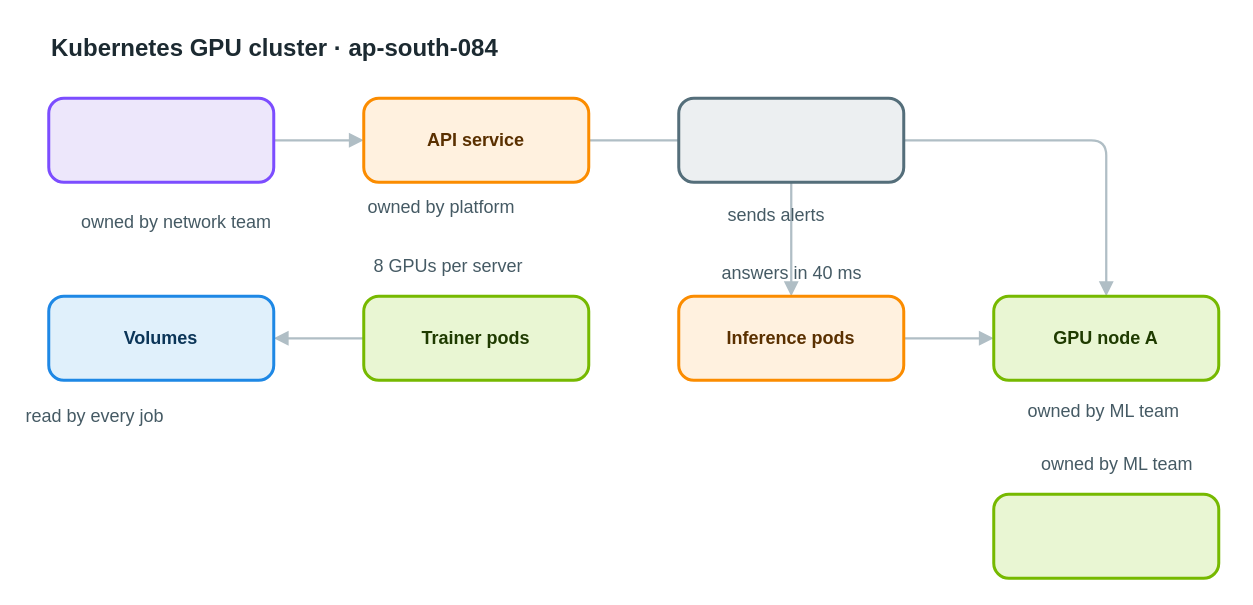
This 1253x605 diagram has some shape labels left out. Here are the shapes that lost their labels. From the top down, the centre of each, then its label:
[160,139]: Ingress
[790,139]: GPU operator
[1106,535]: GPU node B
